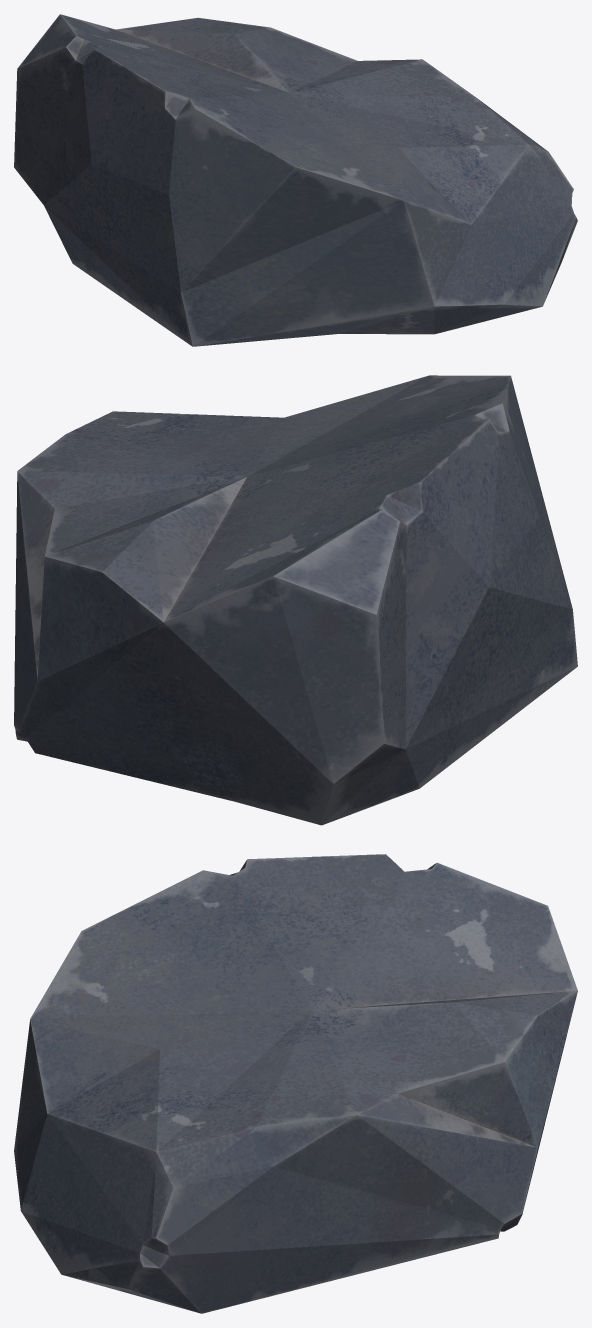
File: Rock_02.fbx
3 renders of one model, top to bottom at view 1: azimuth 30°, elevation 25°; view 2: azimuth 150°, elevation 25°; view 3: azimuth 270°, elevation 25°, orthographic. The views are drawn at different scales.
Visible parts, largest first — view 1: stylized_rock_69; view 2: stylized_rock_69; view 3: stylized_rock_69.
Part boxes in pixels (x1,y1,x2,y2): stylized_rock_69: [14, 14, 577, 346]; stylized_rock_69: [14, 375, 577, 825]; stylized_rock_69: [14, 854, 577, 1313].
Size of the model in its own units: 247 by 149 by 265.
